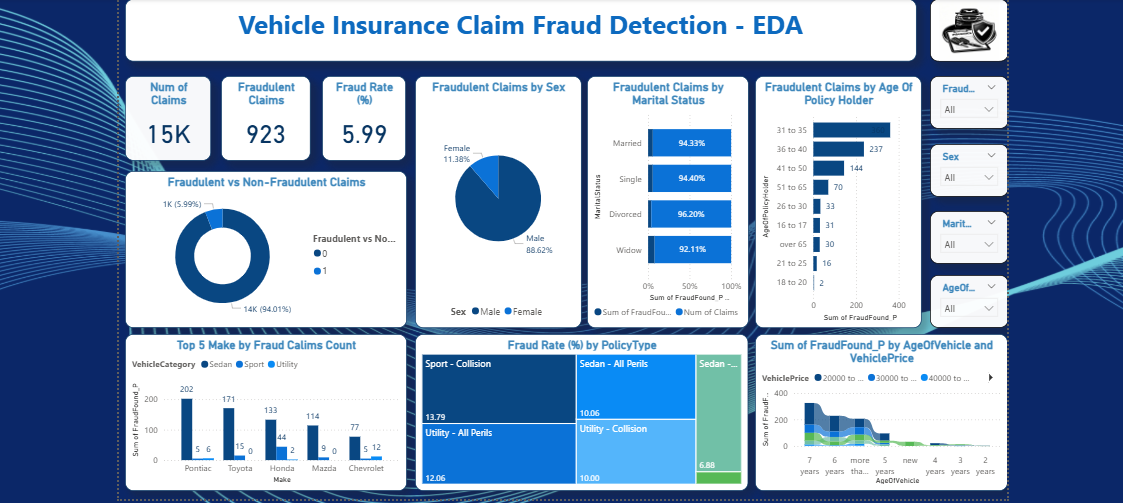

What the dashboard file says about the page in this screenshot:
{"tool":"powerbi","page":{"name":"Page 1","canvas":[1280,720],"ordinal":0},"visuals":[{"type":"textbox","box":[8.1,0,1139.5,89.5],"z":0},{"type":"image","box":[1167.4,0,112.8,89.5],"z":1000},{"type":"card","title":"Num of Claims","fields":{"Values":["vehicle_fraud.Num of Claims"]},"box":[8.1,110.5,124.4,122.1],"z":2000},{"type":"card","title":"Fraudulent Claims","fields":{"Values":["Sum(vehicle_fraud.FraudFound_P)"]},"box":[146.5,110.5,129.1,122.1],"z":3000},{"type":"card","title":"Fraud Rate (%)","fields":{"Values":["vehicle_fraud.Fraud Rate (%)"]},"box":[293,110.5,120.9,122.1],"z":4000},{"type":"donutChart","title":" Fraudulent vs Non-Fraudulent Claims ","fields":{"Category":["vehicle_fraud.FraudFound_P"],"Y":["vehicle_fraud.Num of Claims"]},"box":[8.1,247.7,405.8,225.6],"z":5000},{"type":"pieChart","title":" Fraudulent  Claims  by Sex","fields":{"Category":["vehicle_fraud.Sex"],"Y":["Sum(vehicle_fraud.FraudFound_P)"]},"box":[425.6,110.5,239.5,362.8],"z":6000},{"type":"hundredPercentStackedBarChart","title":" Fraudulent  Claims  by Marital Status","fields":{"Category":["vehicle_fraud.MaritalStatus"],"Y":["Sum(vehicle_fraud.FraudFound_P)","vehicle_fraud.Num of Claims"]},"box":[673.3,110.5,232.6,362.8],"z":7000},{"type":"clusteredBarChart","title":" Fraudulent  Claims  by Age Of Policy Holder","fields":{"Category":["vehicle_fraud.AgeOfPolicyHolder"],"Y":["Sum(vehicle_fraud.FraudFound_P)"]},"box":[916.3,110.5,239.5,362.8],"z":8000},{"type":"slicer","fields":{"Values":["vehicle_fraud.FraudFound_P"]},"box":[1167.4,110.5,112.8,75.6],"z":9000},{"type":"slicer","fields":{"Values":["vehicle_fraud.Sex"]},"box":[1167.4,209.3,112.8,75.6],"z":10000},{"type":"slicer","fields":{"Values":["vehicle_fraud.MaritalStatus"]},"box":[1167.4,305.8,112.8,75.6],"z":11000},{"type":"slicer","fields":{"Values":["vehicle_fraud.AgeOfPolicyHolder"]},"box":[1167.4,397.7,112.8,75.6],"z":12000},{"type":"clusteredColumnChart","title":" Top 5 Make by Fraud Calims Count","fields":{"Category":["vehicle_fraud.Make"],"Y":["Sum(vehicle_fraud.FraudFound_P)"],"Series":["vehicle_fraud.VehicleCategory"]},"box":[9.3,482.6,405.8,225.6],"z":13000},{"type":"treemap","fields":{"Group":["vehicle_fraud.PolicyType"],"Values":["vehicle_fraud.Fraud Rate (%)"]},"box":[426.2,482.5,480,226.2],"z":14000},{"type":"ribbonChart","fields":{"Category":["vehicle_fraud.AgeOfVehicle"],"Y":["Sum(vehicle_fraud.FraudFound_P)"],"Series":["vehicle_fraud.VehiclePrice"]},"box":[916.2,482.5,363.8,226.2],"z":14001}]}

Visuals, with their boxes on the page's 1280x720 design canvas (x1, y1, x2, y2). These are canvas units, not pixel positions in the 1123x503 screenshot, which may show the page scaled, cropped or inside an application window:
textbox: pyautogui.locateOnScreen(8, 0, 1148, 90)
image: pyautogui.locateOnScreen(1167, 0, 1280, 90)
"Num of Claims" card: pyautogui.locateOnScreen(8, 110, 132, 233)
"Fraudulent Claims" card: pyautogui.locateOnScreen(146, 110, 276, 233)
"Fraud Rate (%)" card: pyautogui.locateOnScreen(293, 110, 414, 233)
" Fraudulent vs Non-Fraudulent Claims " donutChart: pyautogui.locateOnScreen(8, 248, 414, 473)
" Fraudulent  Claims  by Sex" pieChart: pyautogui.locateOnScreen(426, 110, 665, 473)
" Fraudulent  Claims  by Marital Status" hundredPercentStackedBarChart: pyautogui.locateOnScreen(673, 110, 906, 473)
" Fraudulent  Claims  by Age Of Policy Holder" clusteredBarChart: pyautogui.locateOnScreen(916, 110, 1156, 473)
slicer - vehicle_fraud.FraudFound_P: pyautogui.locateOnScreen(1167, 110, 1280, 186)
slicer - vehicle_fraud.Sex: pyautogui.locateOnScreen(1167, 209, 1280, 285)
slicer - vehicle_fraud.MaritalStatus: pyautogui.locateOnScreen(1167, 306, 1280, 381)
slicer - vehicle_fraud.AgeOfPolicyHolder: pyautogui.locateOnScreen(1167, 398, 1280, 473)
" Top 5 Make by Fraud Calims Count" clusteredColumnChart: pyautogui.locateOnScreen(9, 483, 415, 708)
treemap - vehicle_fraud.PolicyType x vehicle_fraud.Fraud Rate (%): pyautogui.locateOnScreen(426, 482, 906, 709)
ribbonChart - vehicle_fraud.AgeOfVehicle x Sum(vehicle_fraud.FraudFound_P): pyautogui.locateOnScreen(916, 482, 1280, 709)
